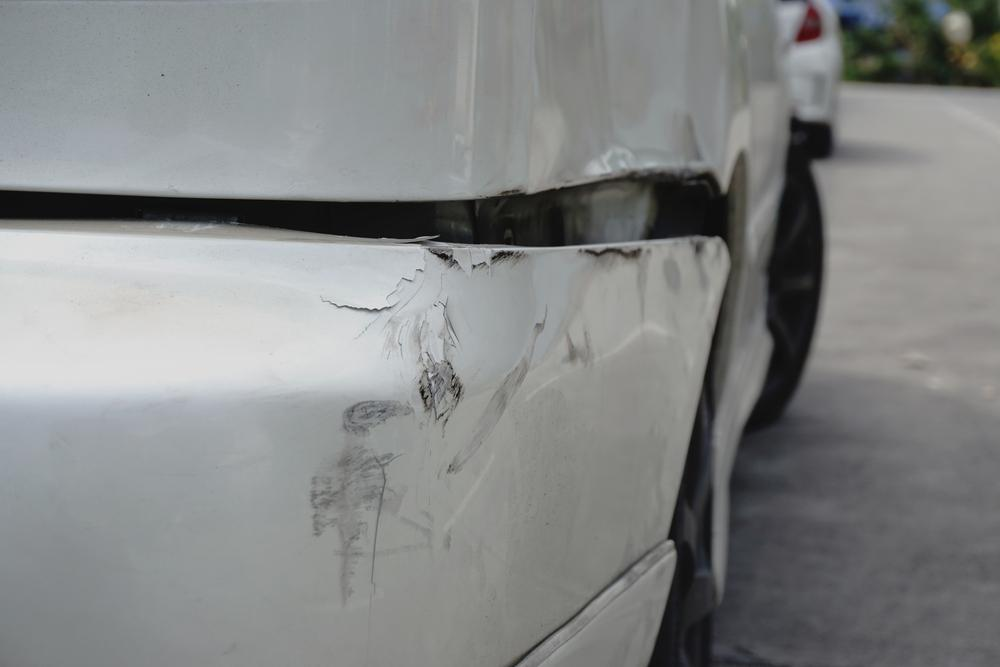scratch: (303, 243, 671, 600)
